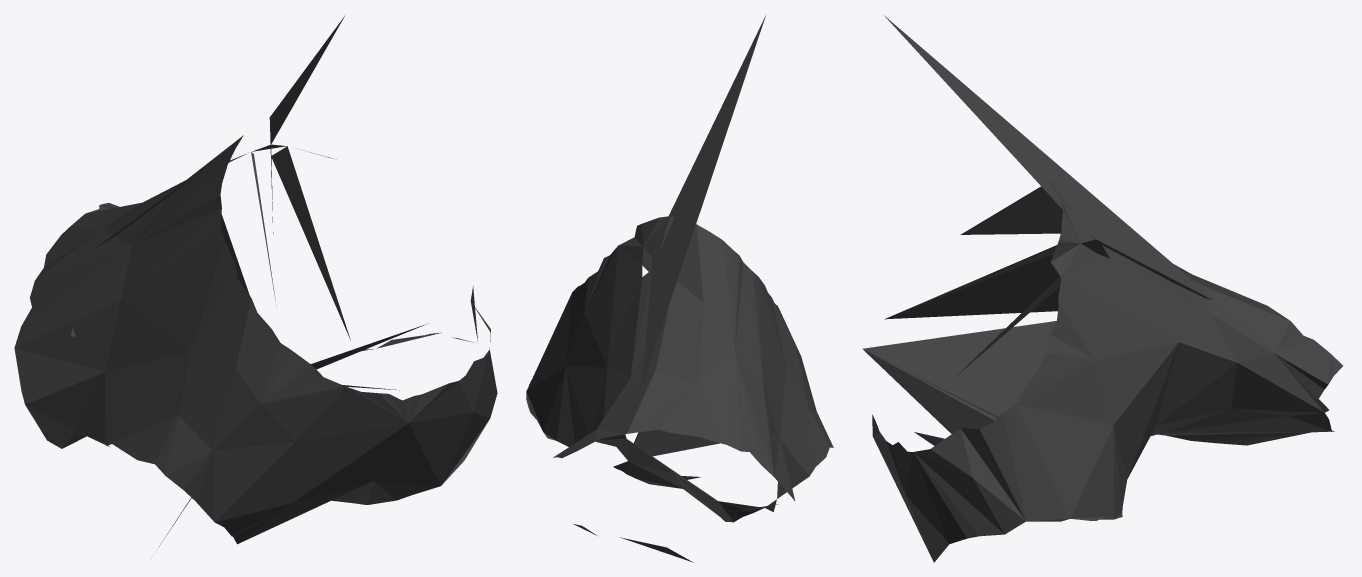
The model's file is A_unused2_Group30467.glb.
3 renders of one model, left to right at view 1: azimuth 30°, elevation 25°; view 2: azimuth 150°, elevation 25°; view 3: azimuth 270°, elevation 25°, orthographic. The views are drawn at different scales.
Visible parts, largest first — view 1: A_unused2_Group30467; view 2: A_unused2_Group30467; view 3: A_unused2_Group30467.
Part boxes in pixels (x1=…): A_unused2_Group30467: x1=14, y1=16, x2=497, y2=547; A_unused2_Group30467: x1=526, y1=15, x2=833, y2=562; A_unused2_Group30467: x1=862, y1=15, x2=1342, y2=562.
Bounding box in the file's own units: 0.00552 × 0.00769 × 0.00636.
1 material, 1 textured.
